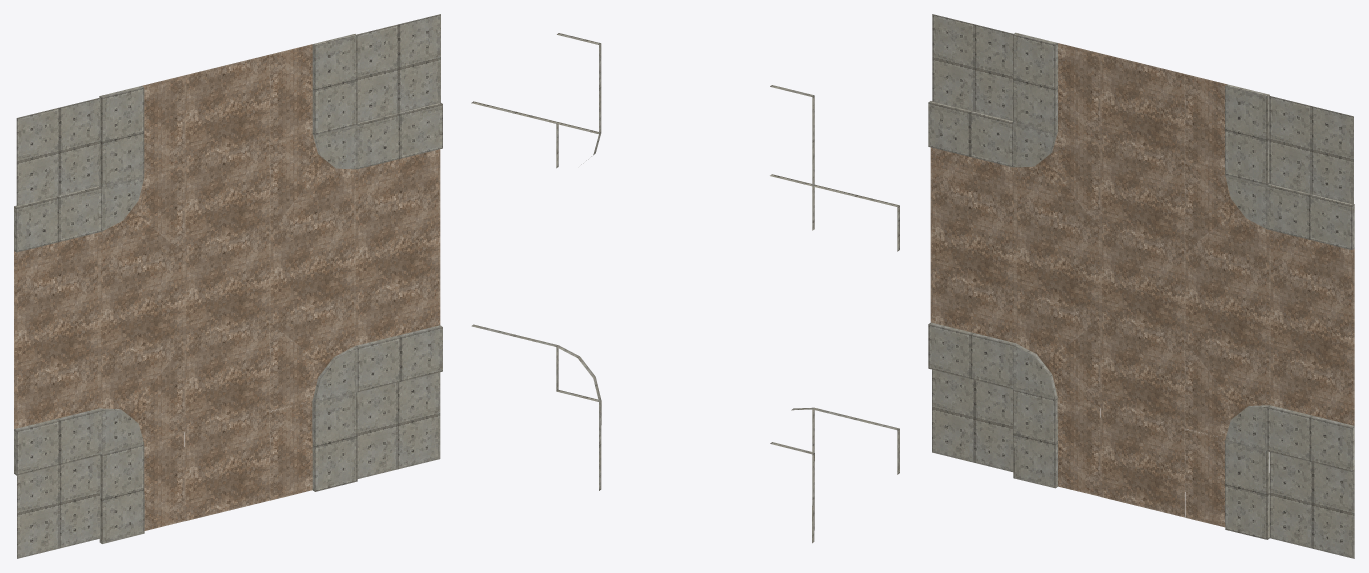
Rendered from road-intersection_province.glb.
The picture shows the model from 3 angles, left to right: view 1: azimuth 30°, elevation 25°; view 2: azimuth 150°, elevation 25°; view 3: azimuth 330°, elevation 25°; orthographic projection.
Visible parts, largest first — view 1: road-dirt-center.001; view 2: road-dirt-center.001; view 3: road-dirt-center.001.
Boxes of the visible parts, x1,y1,x2,y2 form: road-dirt-center.001: (14, 14, 442, 558); road-dirt-center.001: (471, 33, 899, 543); road-dirt-center.001: (928, 14, 1354, 558).
Size of the model in its own units: 5 by 5 by 0.05.
Materials: 38 (38 with a texture image).
